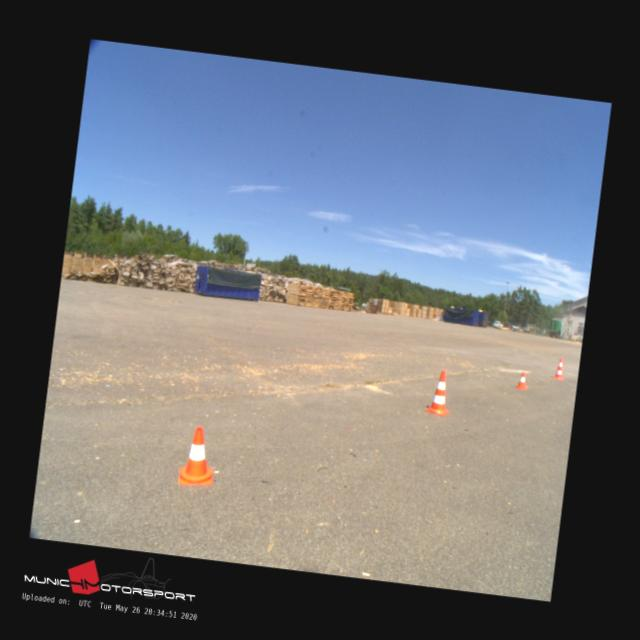large_orange_cone: (425, 369, 453, 415), (553, 358, 565, 380)
orange_cone: (178, 424, 218, 488), (515, 371, 527, 389)
